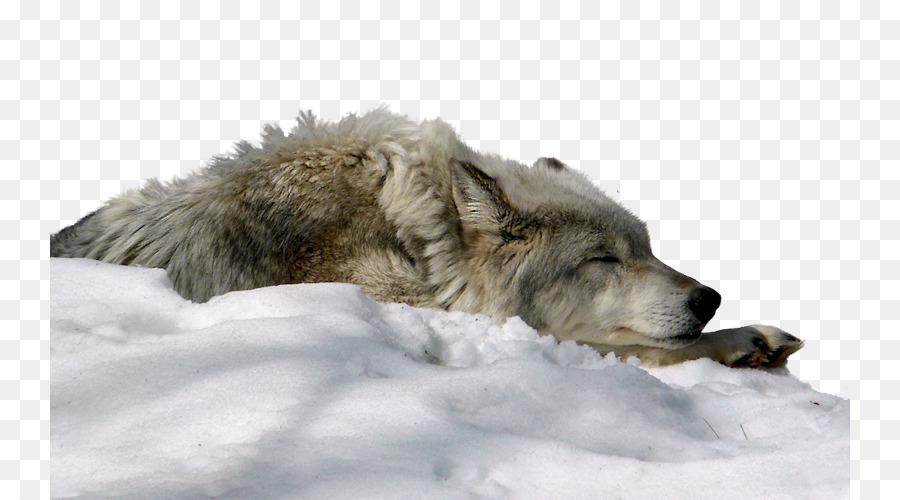Lobo: (50, 135, 814, 390)
